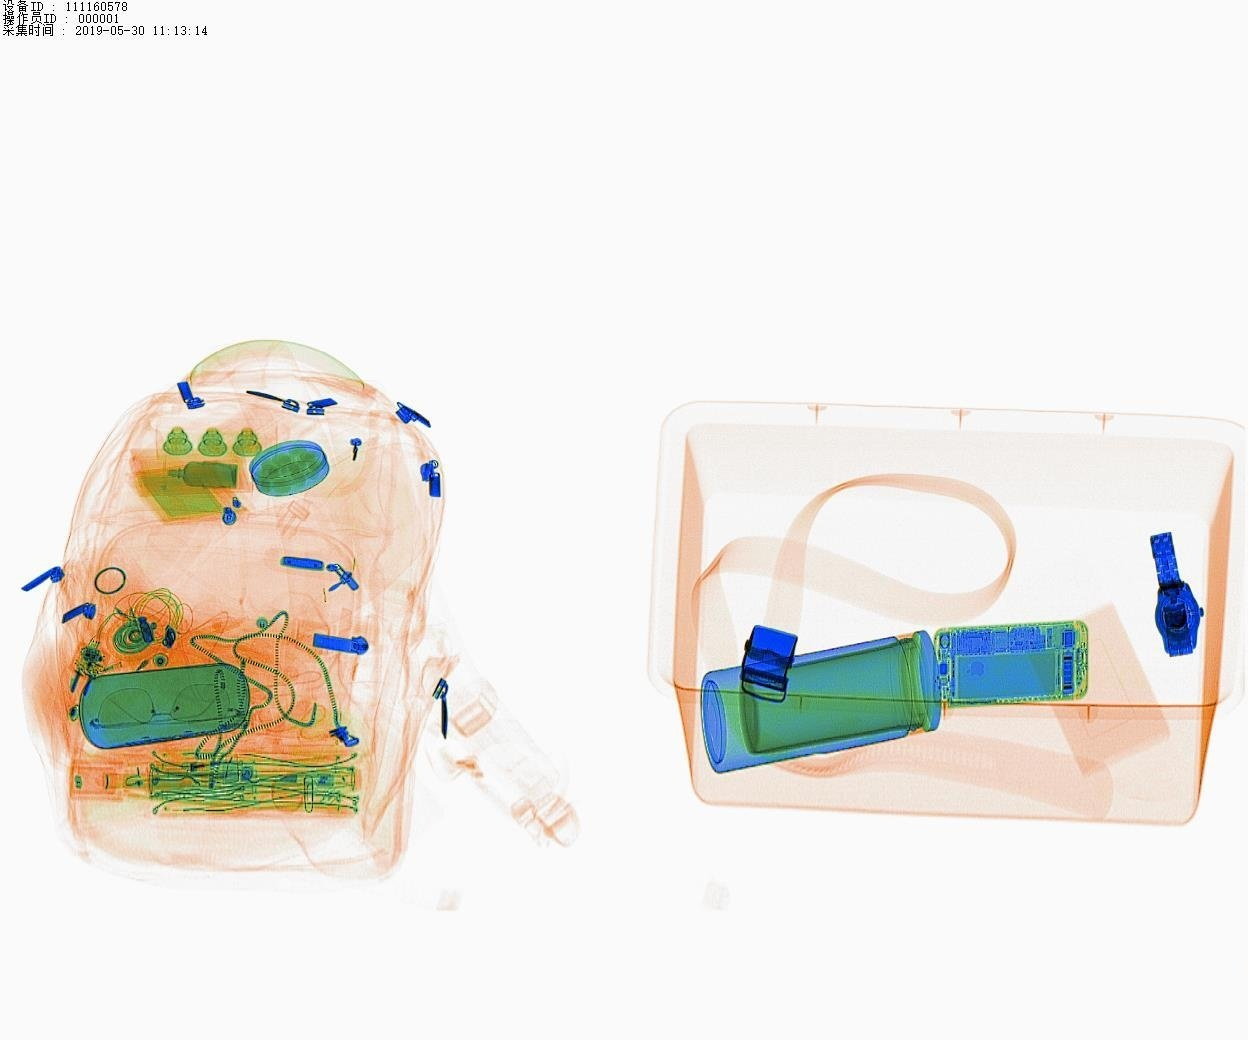NonmetallicFire: (142, 751, 267, 806)
